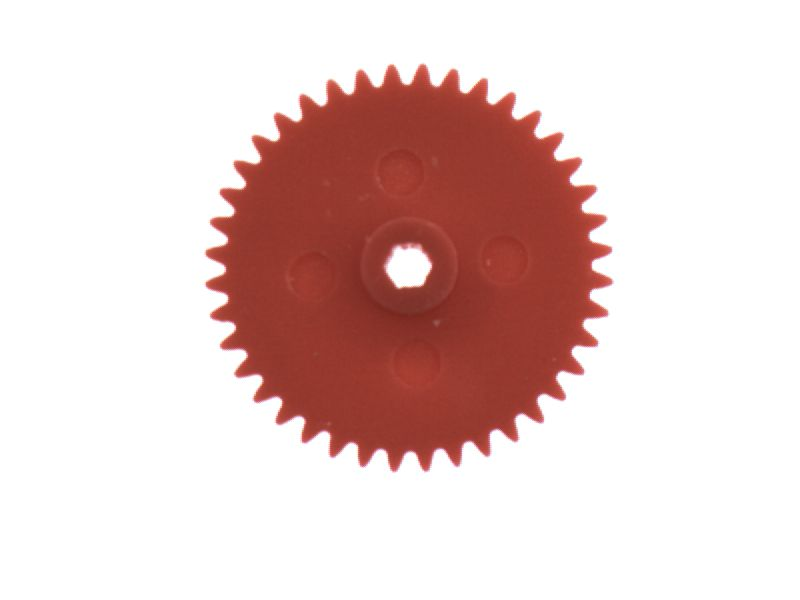good_product: (193, 55, 624, 483)
